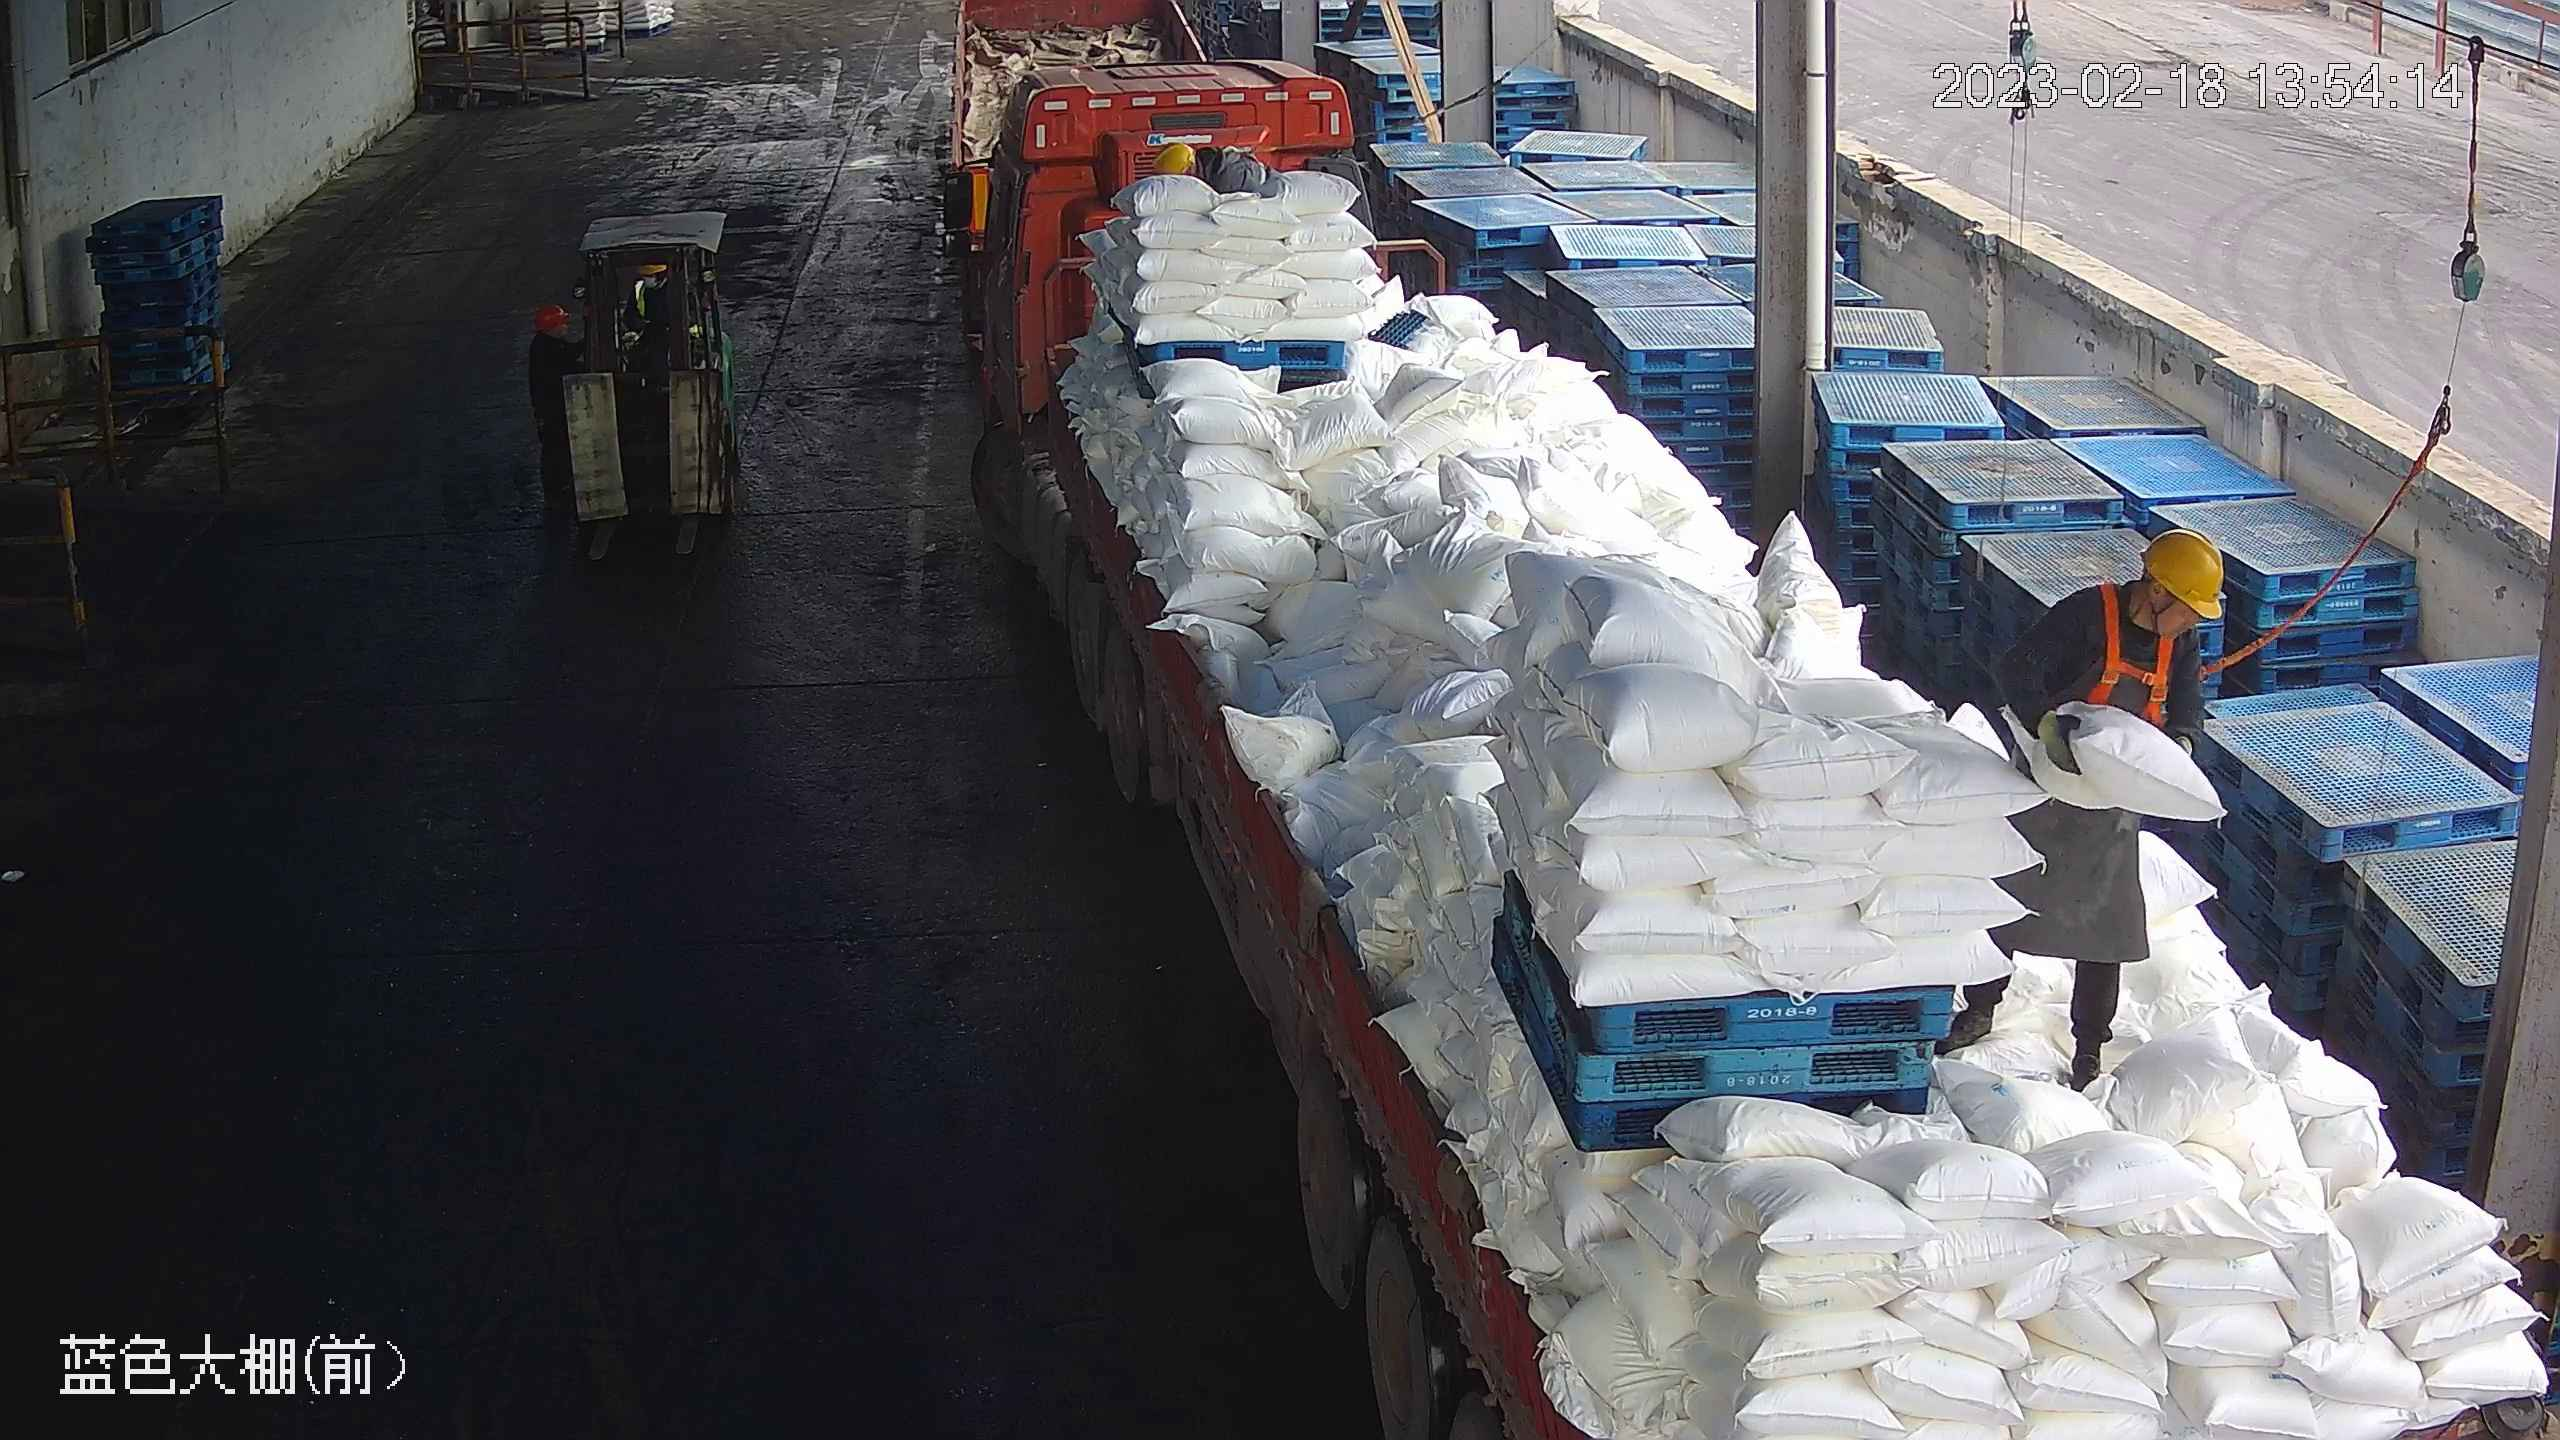belt: (2070, 577, 2219, 725), (1200, 140, 1239, 171)
head: (2039, 523, 2224, 667), (1154, 138, 1229, 179), (527, 307, 574, 360), (630, 263, 674, 302)
helmet: (2139, 523, 2226, 620), (1153, 139, 1194, 176), (533, 306, 570, 331)
people: (1942, 526, 2225, 1095), (523, 306, 581, 506)
truck: (943, 58, 2221, 1390)
